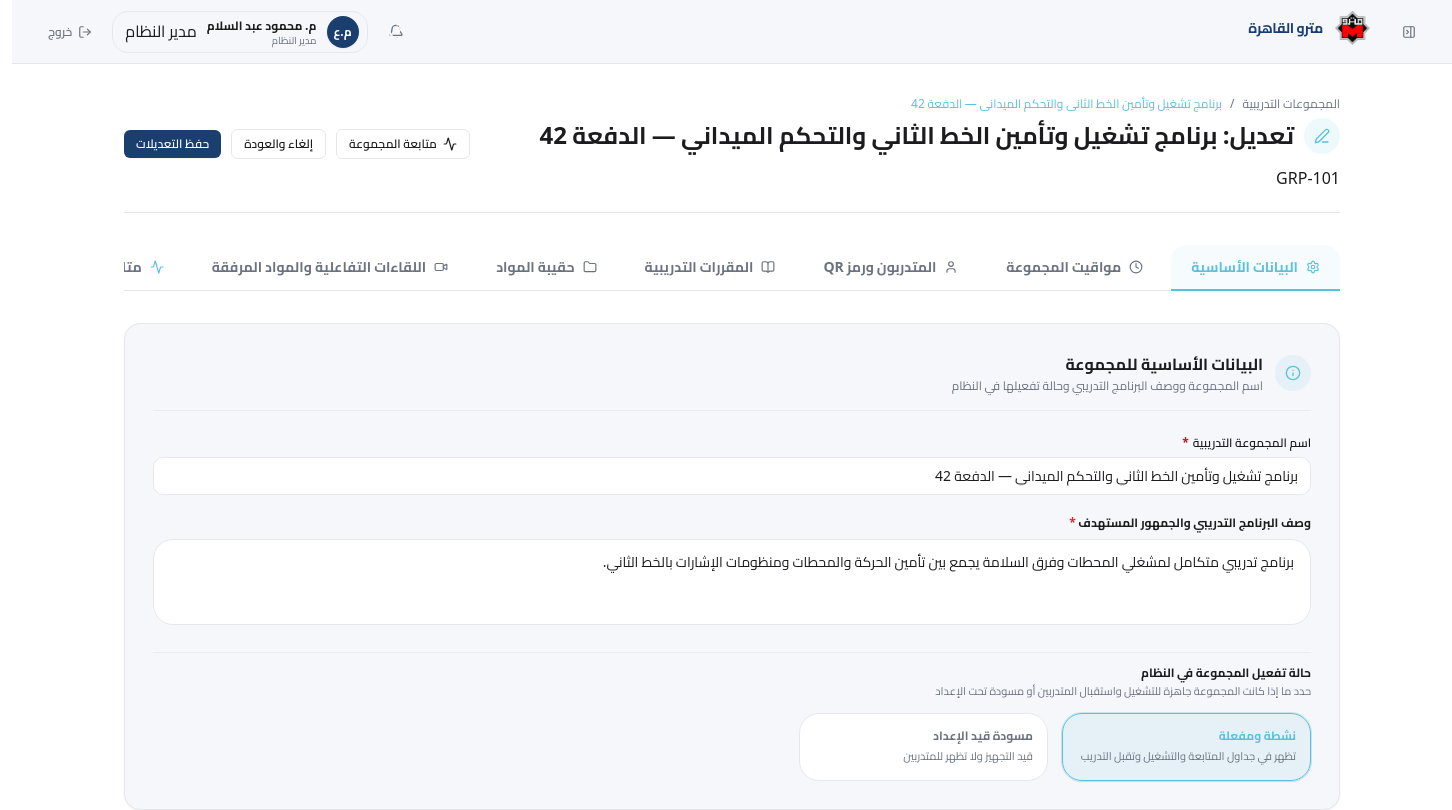
Test: Increment 10 — Phase 5: Course Assignment, Renewal Schedules & Date Overrides › 1. Course Assignment Tab & Active Cycle Presentation › switches between general settings and courses tabs in group editor
Expected: the field with test id "group-name-input" is shown, [153,457,1311,495]
// Click on courses tab
What coordinates should you click on to do the following:
click the button with test id "tab-courses"
I would click on:
 (710, 268)
Its box is [624,245,795,291].
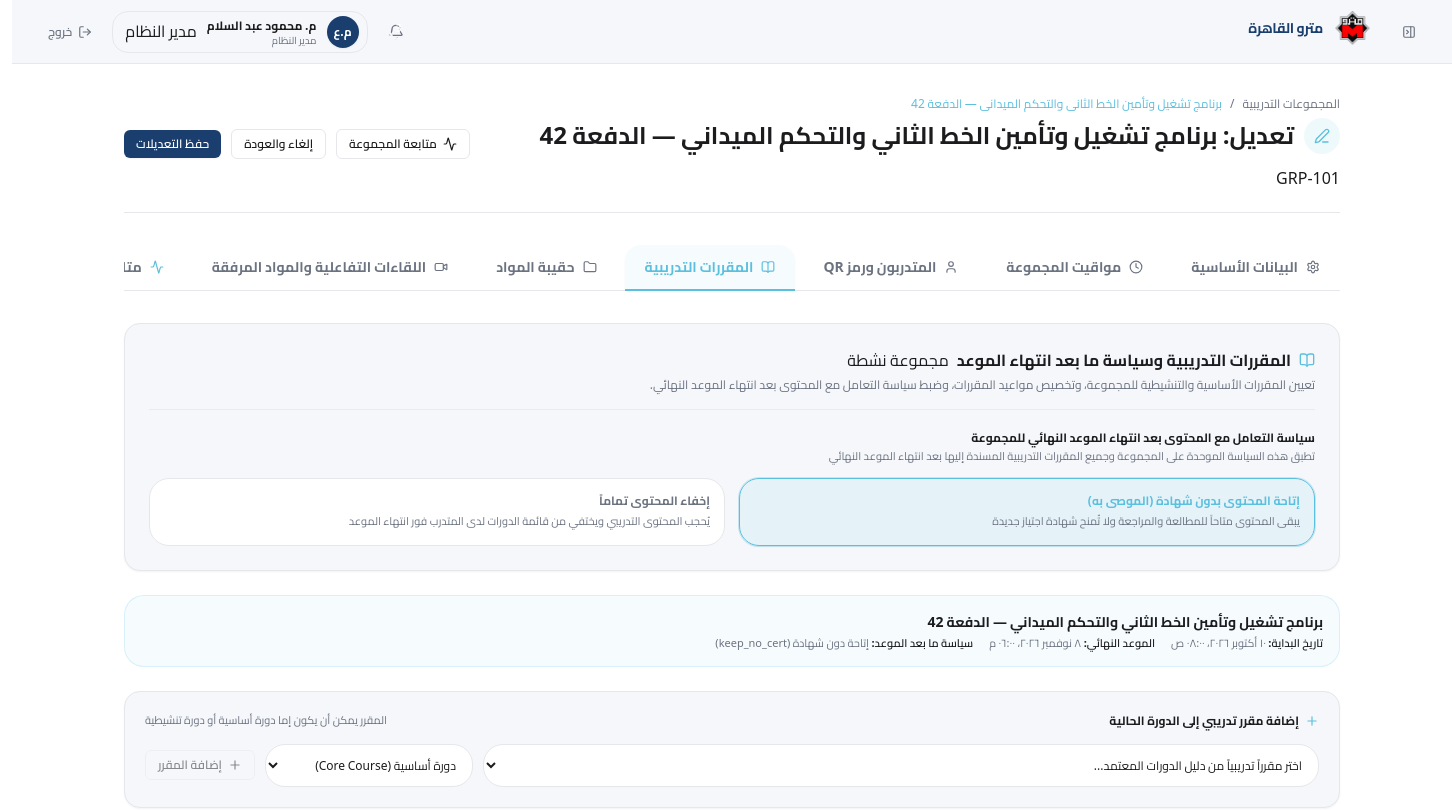
// Click back to general settings tab
What coordinates should you click on to do the following:
click the button with test id "tab-general-settings"
I would click on:
 (1256, 268)
Its box is [1171,245,1340,291].
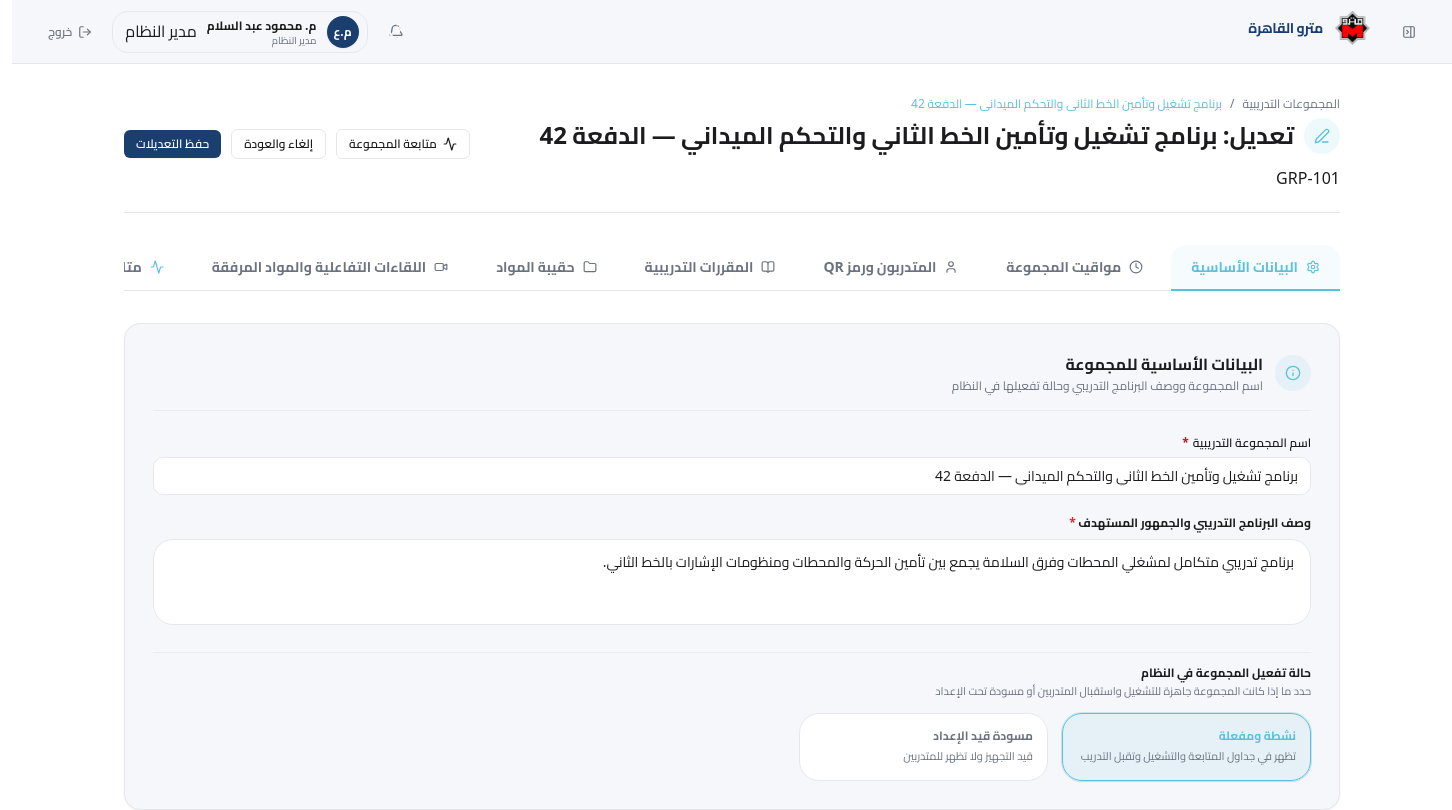
Now the field with test id "group-name-input" is shown, box [153,457,1311,495]
